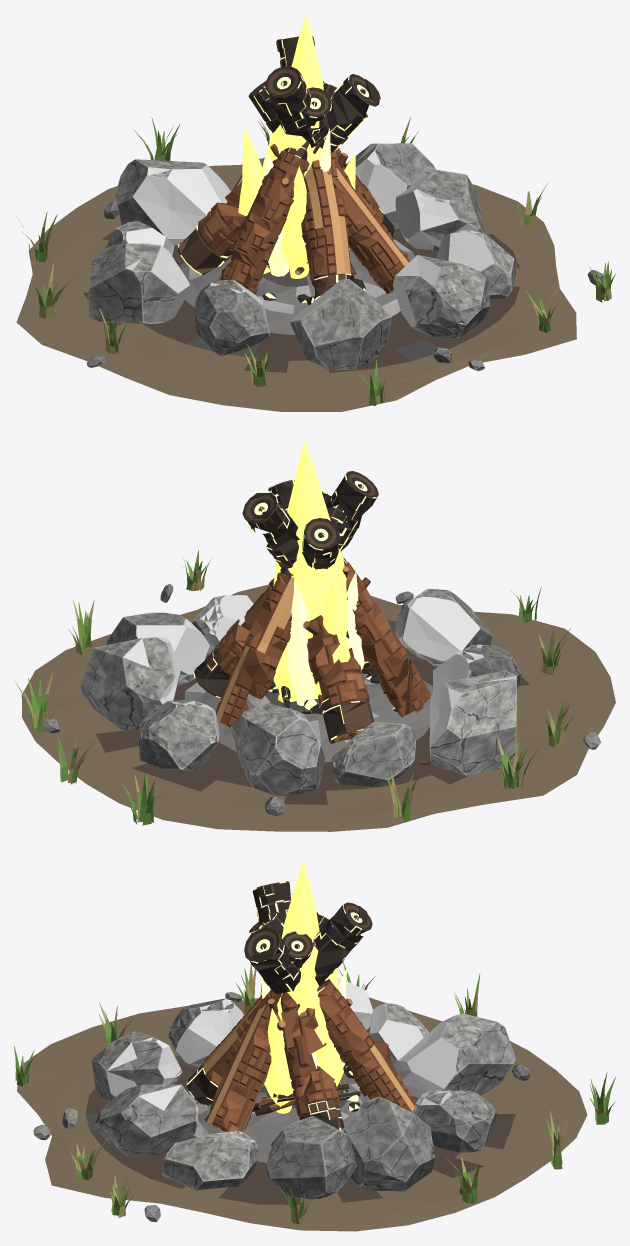
File: Campfire.fbx
3 renders of one model, top to bottom at view 1: azimuth 30°, elevation 25°; view 2: azimuth 150°, elevation 25°; view 3: azimuth 270°, elevation 25°, orthographic. The views are drawn at different scales.
Visible parts, largest first — view 1: Ground, Stone_06, Stone_04, Stone_08, Stone_09, Log_03, Log_04, Log_05, Stone_01, Log_06, Stone_07, Ash (+12 smaller); view 2: Ground, Stone_06, Stone_02, Stone_04, Log_02, Log_03, Stone_08, Log_04, Stone_03, Flame_Outer, Log_01, Stone_05 (+18 smaller); view 3: Ground, Stone_04, Stone_02, Log_01, Stone_09, Stone_01, Log_02, Log_05, Log_06, Stone_10, Stone_08, Stone_03 (+14 smaller).
Part boxes in pixels (x1,y1,x2,y2): Ground: [16, 164, 576, 411]; Stone_06: [88, 243, 189, 323]; Stone_04: [115, 159, 230, 246]; Stone_08: [289, 278, 391, 369]; Stone_09: [392, 255, 490, 338]; Log_03: [178, 74, 380, 275]; Log_04: [218, 81, 336, 294]; Log_05: [276, 35, 354, 301]; Stone_01: [395, 169, 484, 250]; Log_06: [248, 81, 411, 293]; Stone_07: [194, 280, 270, 355]; Ash: [179, 239, 415, 334]; Ground: [21, 584, 615, 831]; Stone_06: [429, 670, 516, 775]; Stone_02: [80, 637, 180, 730]; Stone_04: [230, 703, 325, 796]; Log_02: [215, 492, 346, 727]; Log_03: [268, 479, 374, 743]; Stone_08: [395, 589, 492, 667]; Log_04: [284, 505, 431, 717]; Stone_03: [138, 700, 219, 771]; Flame_Outer: [273, 440, 347, 698]; Log_01: [193, 471, 378, 697]; Stone_05: [331, 722, 416, 787]; Ground: [17, 997, 587, 1231]; Stone_04: [396, 1013, 515, 1097]; Stone_02: [344, 1097, 434, 1191]; Log_01: [252, 881, 344, 1130]; Stone_09: [95, 1084, 198, 1156]; Stone_01: [266, 1116, 356, 1199]; Log_02: [249, 913, 415, 1112]; Log_05: [186, 902, 372, 1106]; Log_06: [204, 912, 329, 1132]; Stone_10: [161, 1131, 258, 1190]; Stone_08: [91, 1031, 182, 1101]; Stone_03: [414, 1090, 496, 1152].
Size of the model in its own units: 2.15 by 1.14 by 2.28.
